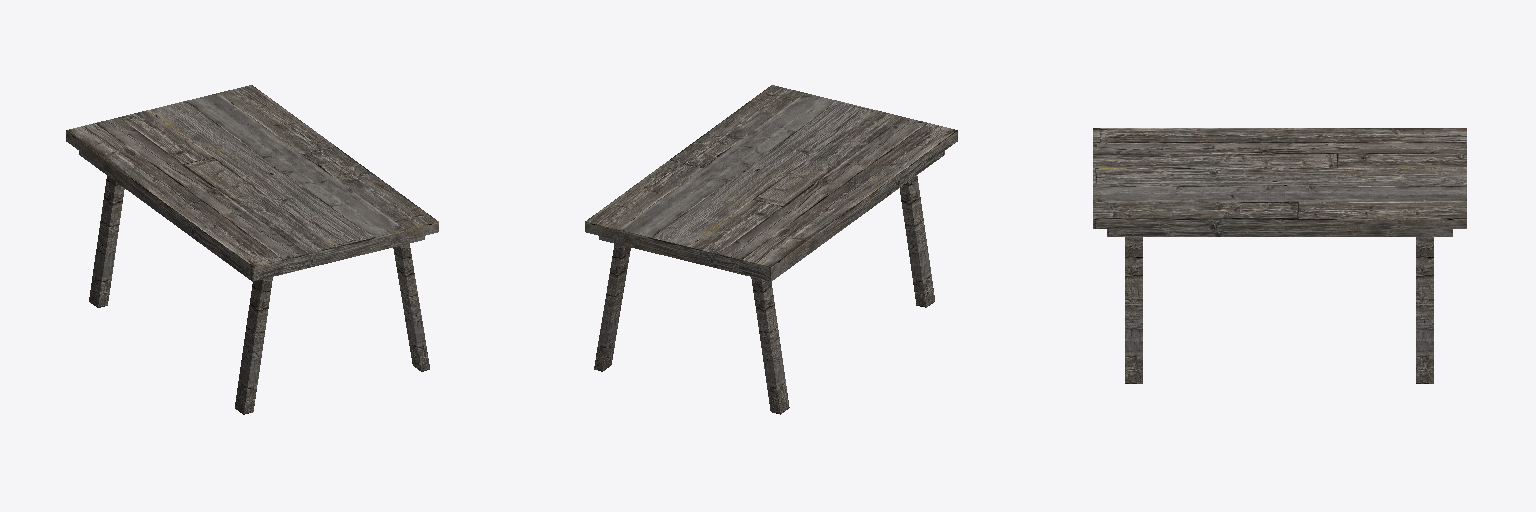
3 renders of one model, left to right at view 1: azimuth 30°, elevation 25°; view 2: azimuth 150°, elevation 25°; view 3: azimuth 270°, elevation 25°, orthographic.
Visible parts, largest first — view 1: Mesa:pCube15; view 2: Mesa:pCube15; view 3: Mesa:pCube15.
Part boxes in pixels (x1,y1,x2,y2): Mesa:pCube15: (66, 85, 438, 414); Mesa:pCube15: (585, 85, 957, 414); Mesa:pCube15: (1093, 128, 1466, 383).
Size of the model in its own units: 8.4 by 6.7 by 14.03.
1 materials, 1 textured.